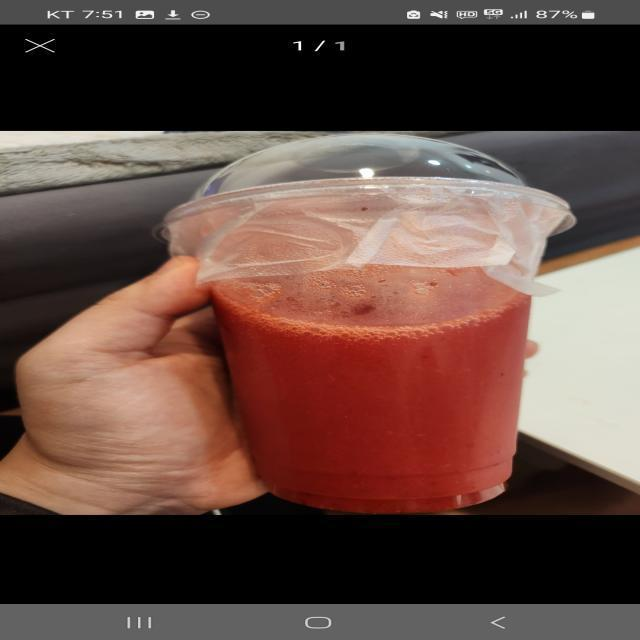cup: (128, 118, 566, 522)
